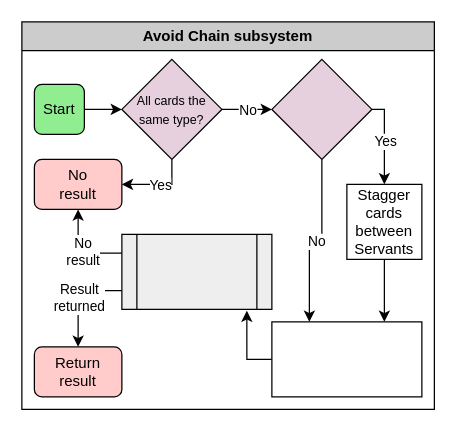
This 456x431 diagram has some shape labels left out. The shapes that lost their labels are listed below. From the top down, each one's centre as x and y in pixels, then its label:
(x=321, y=108): >1 Servants?
(x=196, y=271): Brave Chain decision tree
(x=346, y=359): Attempt to find Avoid Chain result from card input
